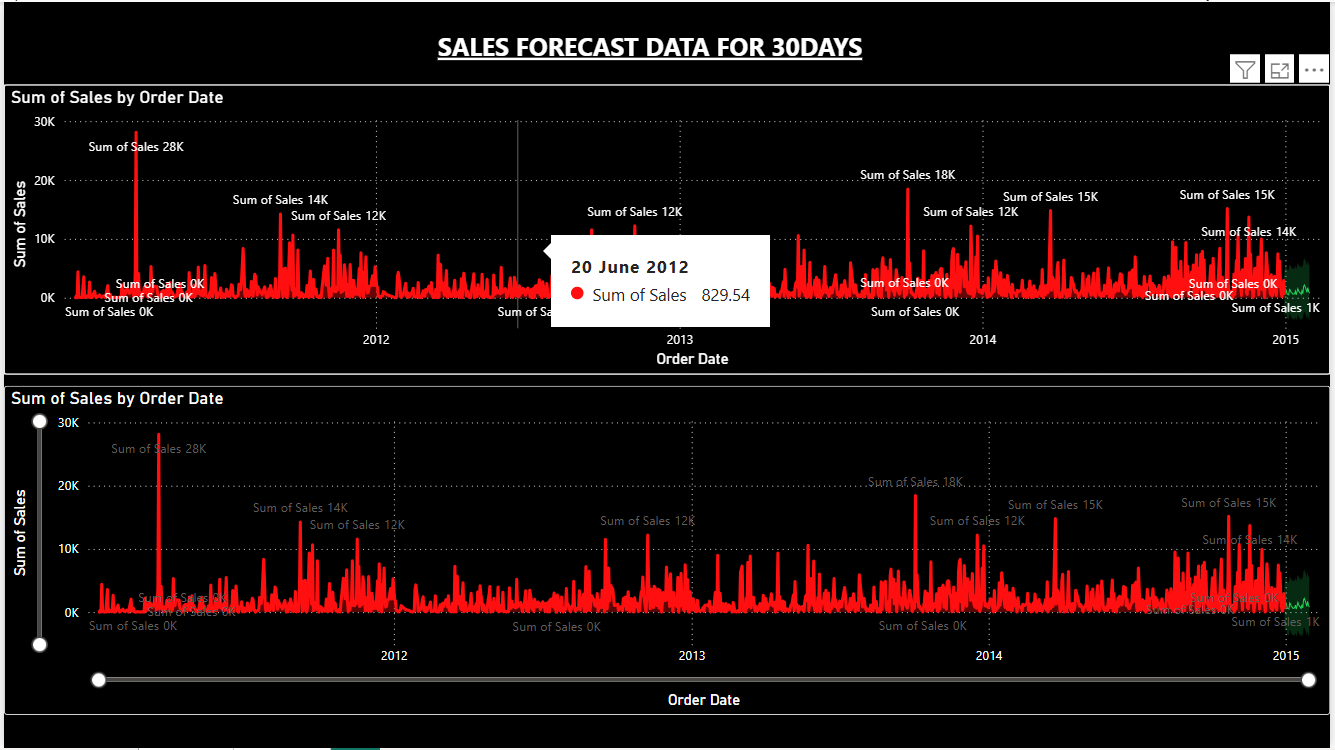

Layout of this report page (visuals, bound fields, positions):
{"tool":"powerbi","page":{"name":"Page 2","canvas":[1280,720],"ordinal":1},"visuals":[{"type":"lineChart","fields":{"Y":["Sum(Orders.Sales)"],"Category":["Orders.Order Date"]},"box":[0,79.8,1279.8,279.8],"z":0},{"type":"lineChart","fields":{"Category":["Orders.Order Date"],"Y":["Sum(Orders.Sales)"]},"box":[0,370.6,1279.8,317.8],"z":1000},{"type":"textbox","box":[99.4,22.1,1049.1,49.1],"z":2000}]}

Visuals, with their boxes in screenshot pixels (x1, y1, x2, y2), scaled from the page's 1280x720 canvas onto the 1335x750 screenshot:
lineChart - Sum(Orders.Sales) x Orders.Order Date: <region>0, 83, 1334, 375</region>
lineChart - Orders.Order Date x Sum(Orders.Sales): <region>0, 386, 1334, 717</region>
textbox: <region>104, 23, 1198, 74</region>
